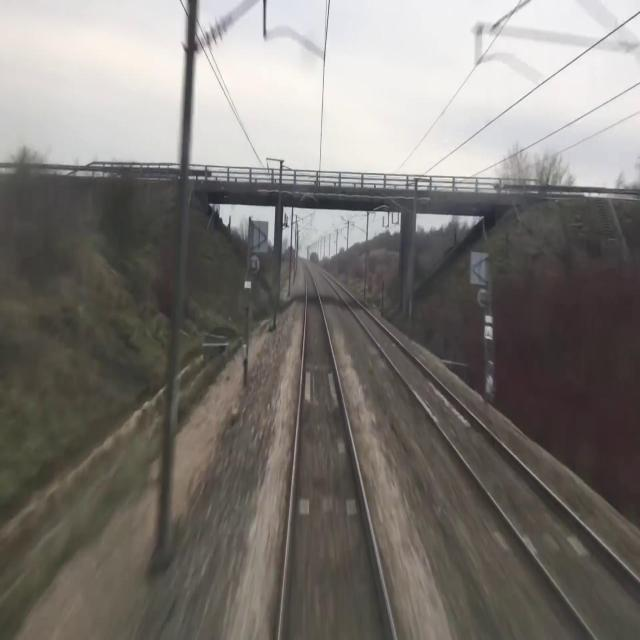rail-track: (319, 268, 640, 639), (281, 261, 395, 639)
